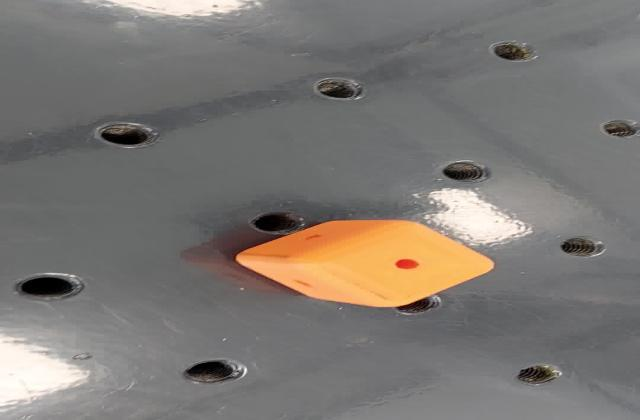cube: (231, 214, 498, 310)
